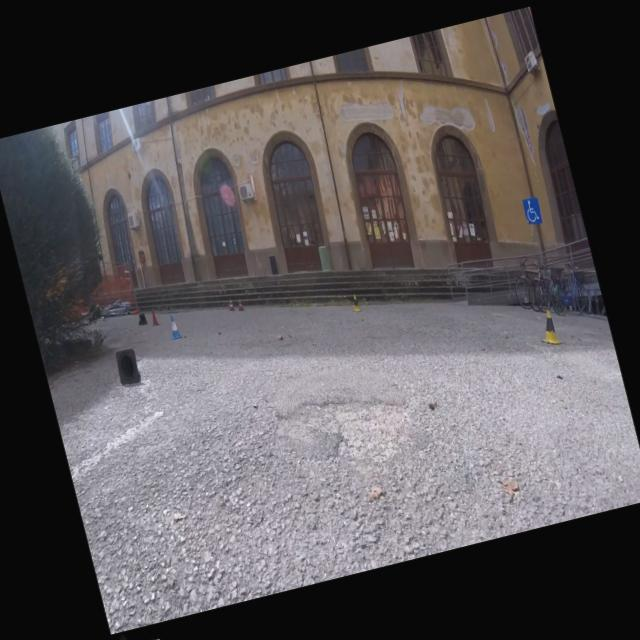blue_cone: (166, 312, 182, 340)
large_orange_cone: (234, 296, 244, 312), (226, 297, 235, 311)
unknown_cone: (114, 347, 142, 385), (148, 308, 160, 326), (136, 312, 147, 326)
yellow_cone: (534, 308, 562, 347), (348, 292, 362, 312)
